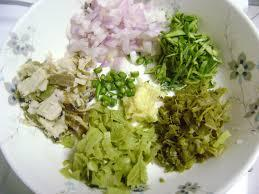Organic: (6, 5, 259, 185)
